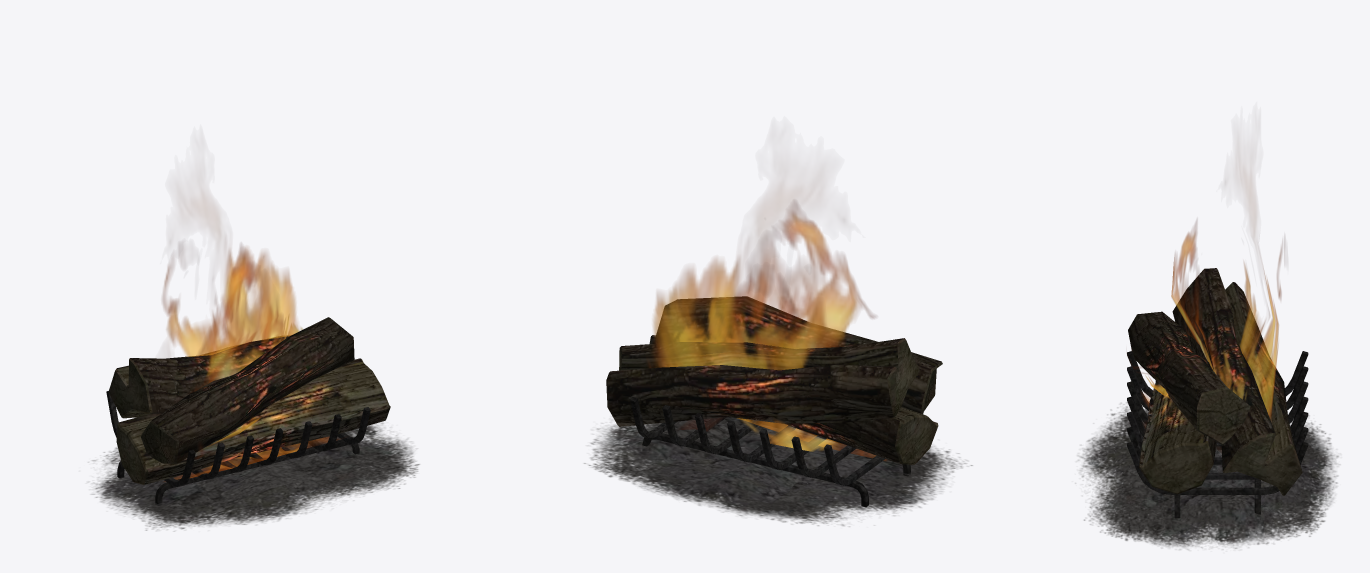
3 views of the same model, side by side, from view 1: azimuth 30°, elevation 25°; view 2: azimuth 150°, elevation 25°; view 3: azimuth 270°, elevation 25° (orthographic). The views are drawn at different scales.
Visible parts, largest first — view 1: Logs_Logs_0, Ashes_Ashes_0, Feu01, Log Grate_Log grate_0; view 2: Logs_Logs_0, Feu01, Ashes_Ashes_0, Log Grate_Log grate_0; view 3: Logs_Logs_0, Ashes_Ashes_0, Feu01, Log Grate_Log grate_0.
Part boxes in pixels (x1,y1,x2,y2): Logs_Logs_0: [108, 317, 390, 484]; Ashes_Ashes_0: [91, 423, 419, 531]; Feu01: [162, 193, 345, 481]; Log Grate_Log grate_0: [106, 391, 370, 505]; Logs_Logs_0: [606, 296, 942, 464]; Feu01: [647, 185, 888, 460]; Ashes_Ashes_0: [584, 417, 972, 525]; Log Grate_Log grate_0: [630, 397, 910, 506]; Logs_Logs_0: [1128, 268, 1302, 495]; Ashes_Ashes_0: [1075, 402, 1338, 549]; Feu01: [1127, 170, 1284, 453]; Log Grate_Log grate_0: [1127, 351, 1308, 519].
Size of the model in its own units: 0.8617 by 1.06 by 0.6191.
Materials: 4 (4 with a texture image).
